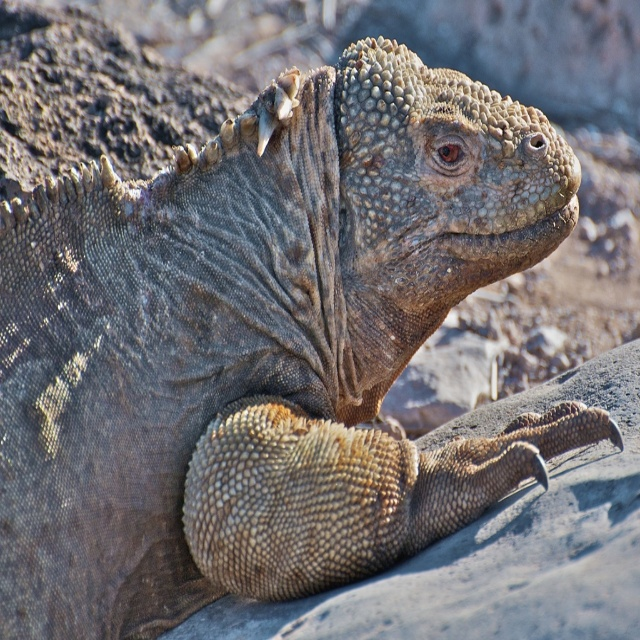Lizard: (18, 33, 592, 595)
